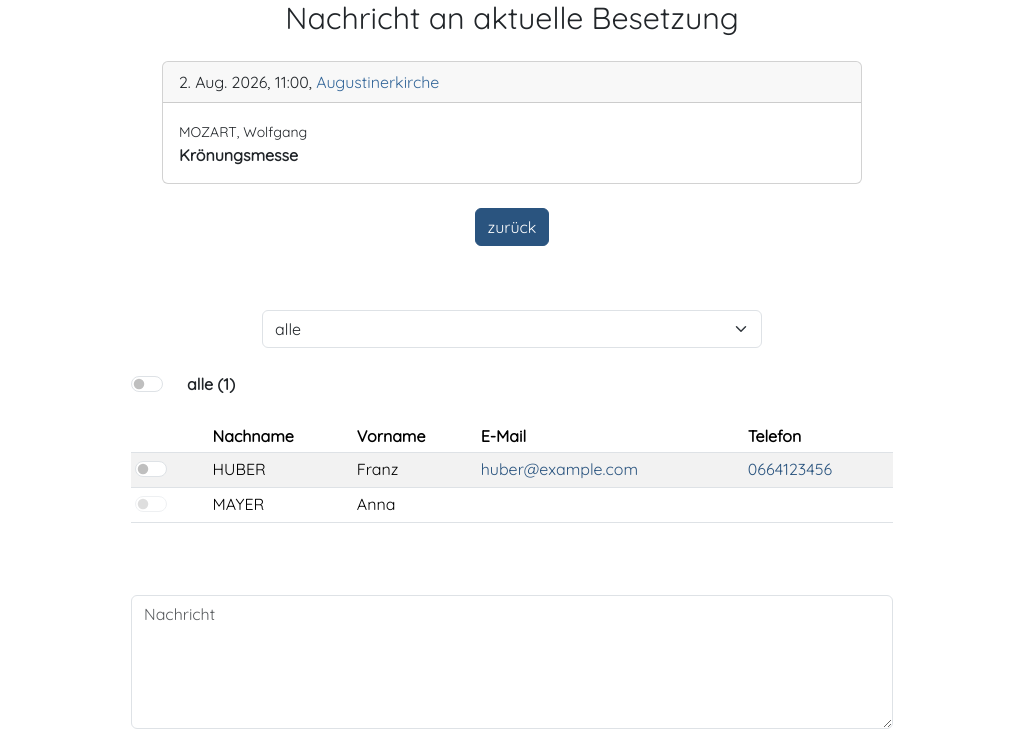
MessageToCastView › disables send until a recipient is selected and a message is entered
This screenshot has width=1024, height=737.
Click the switch in the row of "Franz": point(151, 468) [135,460,167,476]
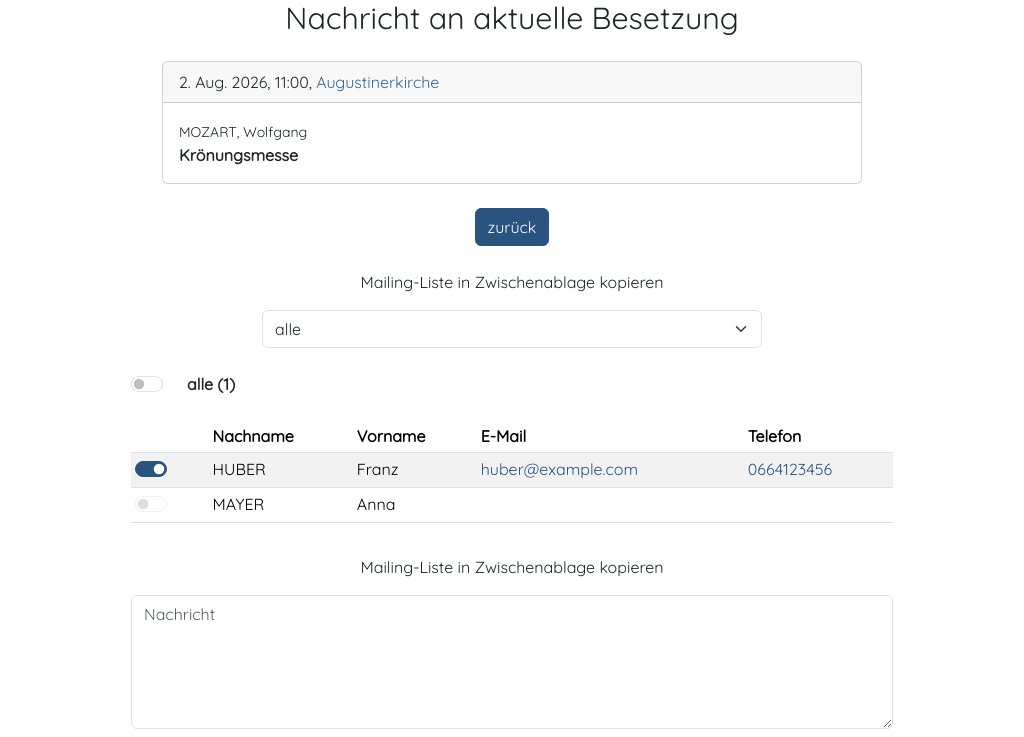
In the text box with placeholder "Nachricht": point(512, 662) [131,594,893,728], type "Bitte pünktlich erscheinen."
(page scrolled)
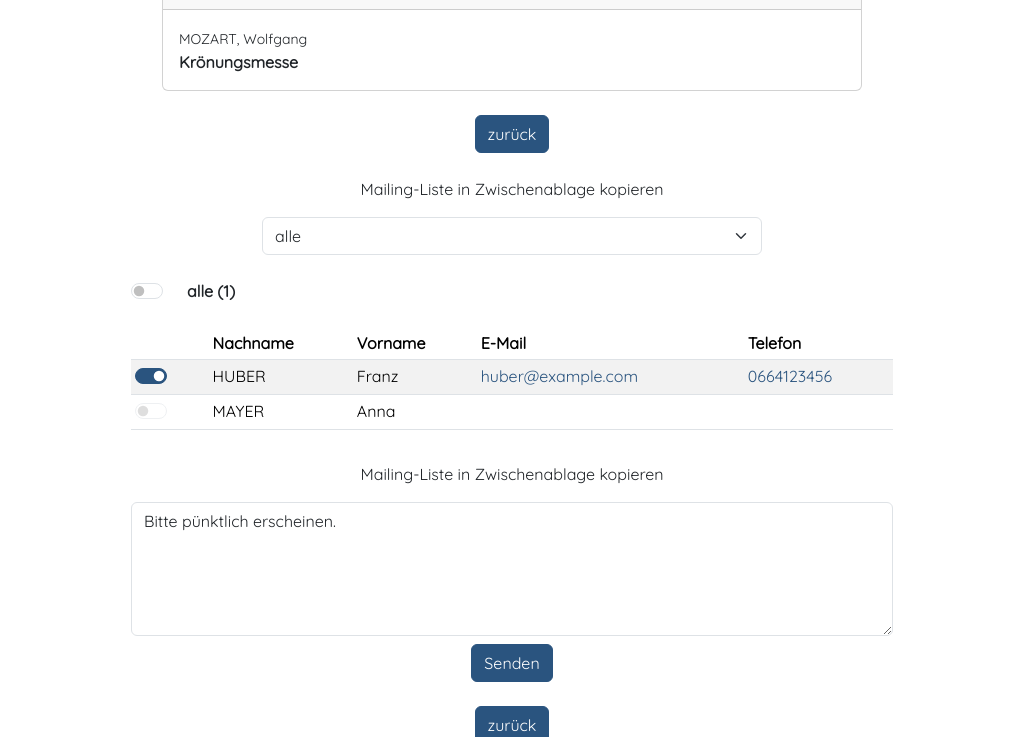
Check: the button "Senden" is enabled, box [471,644,553,682]
